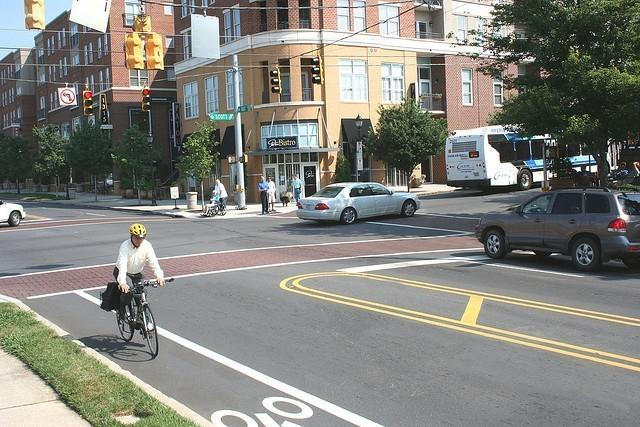bicycle: (119, 302, 161, 356)
bus: (444, 124, 546, 188)
car: (465, 187, 640, 271), (297, 181, 420, 223), (0, 199, 27, 227)
